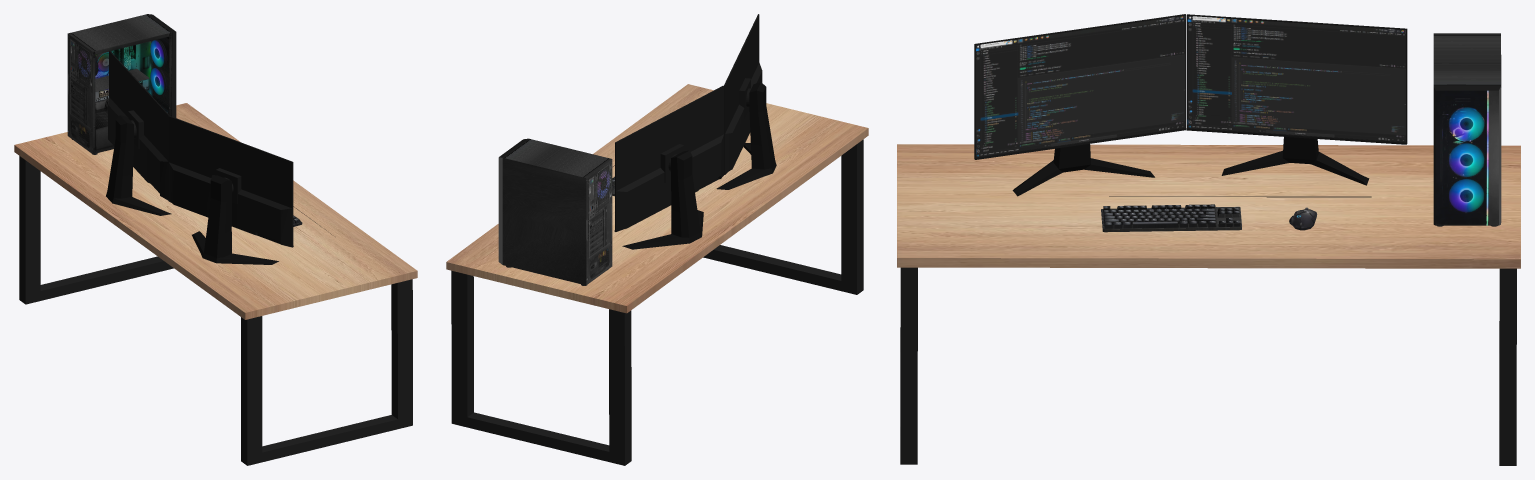
The model's file is desk.glb.
The picture shows the model from 3 angles, left to right: view 1: azimuth 30°, elevation 25°; view 2: azimuth 150°, elevation 25°; view 3: azimuth 270°, elevation 25°; orthographic projection. The views are drawn at different scales.
Visible parts, largest first — view 1: Object_4, Object_6, Cylinder.001_5, Plane.002_2, Cylinder_3, Cube.002_6, Cube.001_4; view 2: Object_4, Object_6, Plane.002_2, Cylinder_3, Cylinder.001_5, Cube.001_4, Cube.002_6; view 3: Object_4, Cylinder_3, Cylinder.001_5, Plane.002_2, Object_6, Plane.003_7, Cube.001_4, Cube.002_6.
Part boxes in pixels (box(x1,y1,x2,y2)): Object_4: box(14, 103, 417, 319); Object_6: box(19, 156, 412, 465); Cylinder.001_5: box(168, 116, 293, 247); Plane.002_2: box(67, 14, 176, 154); Cylinder_3: box(108, 50, 169, 200); Cube.002_6: box(192, 175, 278, 264); Cube.001_4: box(106, 115, 171, 215); Object_4: box(446, 84, 868, 313); Object_6: box(451, 139, 863, 465); Plane.002_2: box(498, 138, 612, 285); Cylinder_3: box(614, 85, 723, 231); Cylinder.001_5: box(724, 14, 762, 174); Cube.001_4: box(622, 150, 703, 249); Cube.002_6: box(716, 82, 776, 189); Object_4: box(897, 144, 1520, 268); Cylinder_3: box(1186, 14, 1407, 144); Cylinder.001_5: box(974, 14, 1186, 159); Plane.002_2: box(1433, 33, 1501, 226); Object_6: box(900, 267, 1516, 465); Plane.003_7: box(1101, 204, 1241, 232); Cube.001_4: box(1221, 137, 1369, 185); Cube.002_6: box(1012, 144, 1154, 196).
Bounding box in the file's own units: 3.02 × 4.47 × 7.
11 materials, 7 textured.
